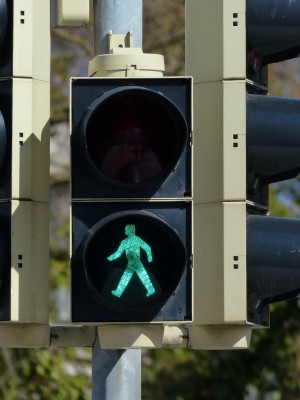pole: (93, 346, 142, 400)
traffic light: (186, 1, 300, 350), (69, 76, 195, 325)
